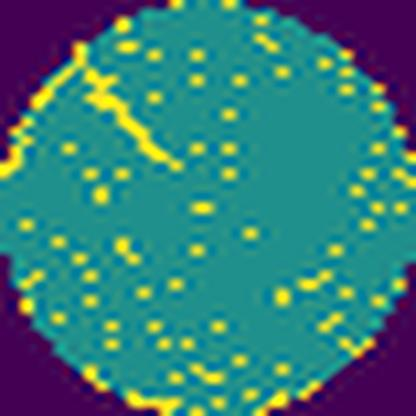Scratch: (73, 53, 187, 178)
